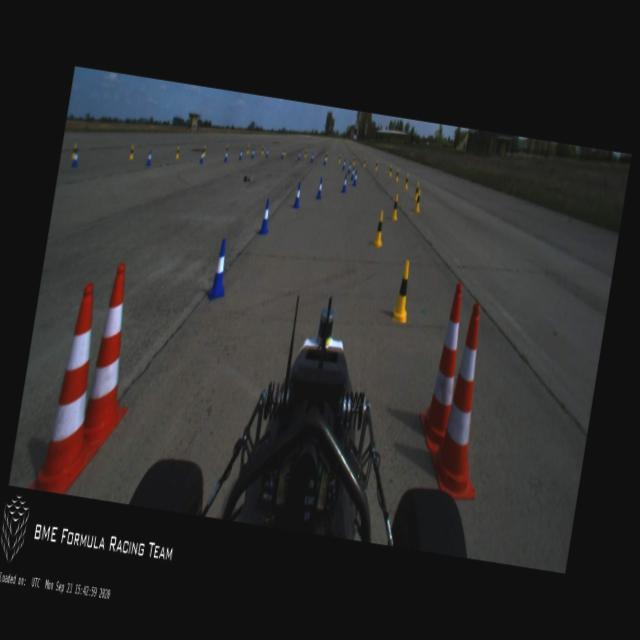blue_cone: (206, 238, 232, 301), (258, 198, 273, 235), (292, 182, 302, 208), (316, 178, 324, 200), (72, 149, 80, 168), (341, 174, 348, 192), (146, 150, 153, 166), (352, 170, 358, 187), (350, 166, 356, 180), (347, 160, 352, 173), (200, 148, 204, 164), (342, 158, 346, 172), (265, 146, 269, 158), (224, 150, 228, 162), (239, 149, 243, 160), (323, 155, 327, 165), (297, 150, 301, 160), (251, 148, 255, 158), (281, 149, 284, 158), (311, 154, 314, 162)
large_orange_cone: (29, 278, 124, 498), (425, 301, 505, 501), (74, 262, 150, 455), (414, 282, 472, 454)
yellow_cone: (390, 258, 416, 324), (371, 210, 387, 248), (390, 194, 401, 222), (413, 188, 422, 212), (413, 180, 421, 202), (71, 142, 78, 162), (128, 145, 136, 160), (404, 173, 410, 189), (174, 144, 180, 158), (394, 168, 400, 182), (388, 164, 392, 177), (202, 145, 206, 157), (352, 156, 356, 165), (225, 145, 228, 154), (247, 145, 250, 154), (284, 148, 287, 157), (338, 154, 341, 163), (363, 159, 366, 168), (375, 161, 378, 170), (304, 150, 307, 158), (325, 152, 328, 160), (262, 146, 264, 155)
